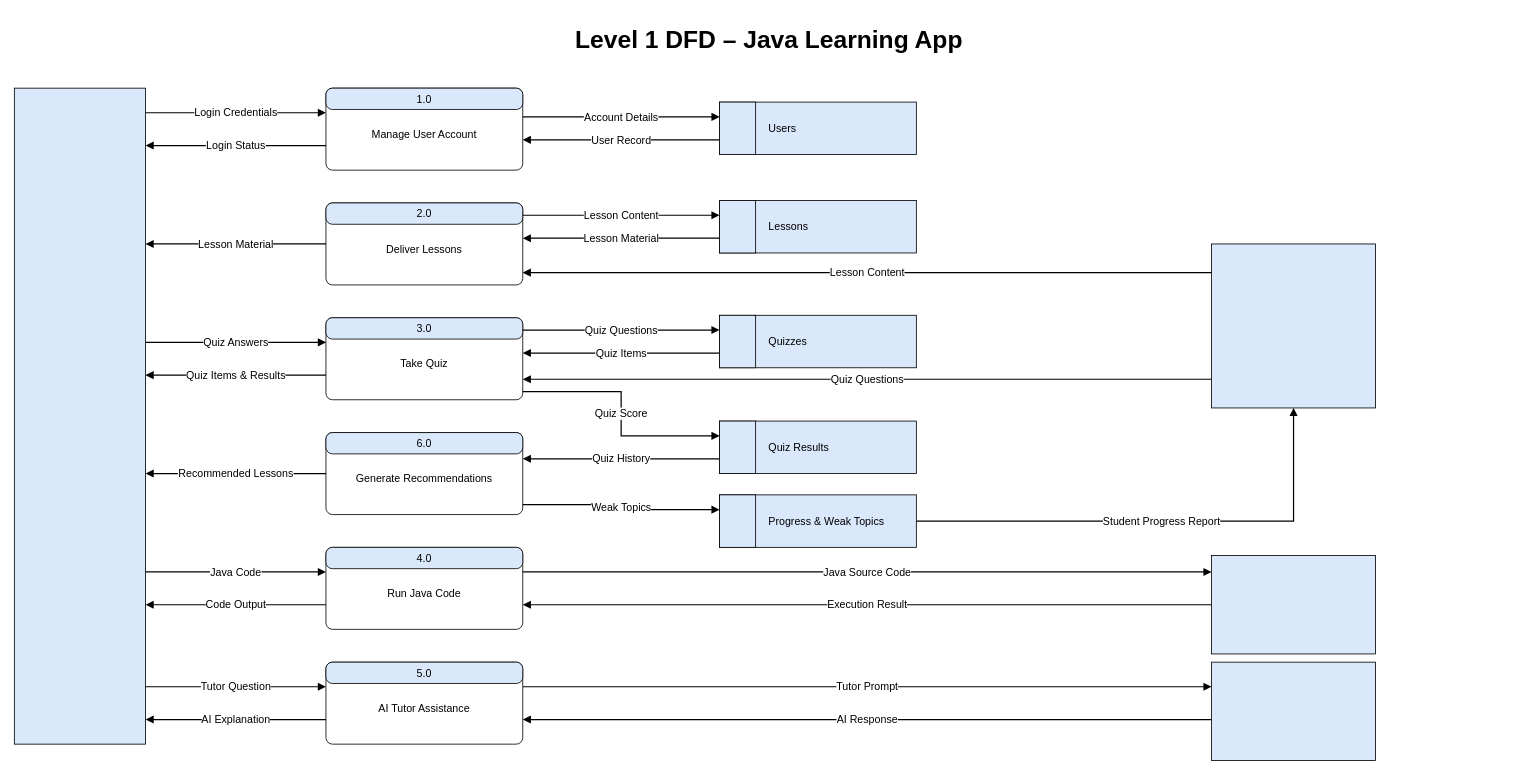
The diagram is 1538 pixels wide and 775 high, and some of its shapes have lost their labels. The shapes that lost their labels are listed below. From the top down, each one's centre as x and y in pixels, then its label:
(x=737, y=128): D1
(x=737, y=226): D2
(x=737, y=341): D3
(x=1293, y=325): Admin / Instructor
(x=80, y=415): Student
(x=737, y=447): D4
(x=737, y=520): D5
(x=1293, y=604): Code Execution Engine
(x=1293, y=711): AI Model API
